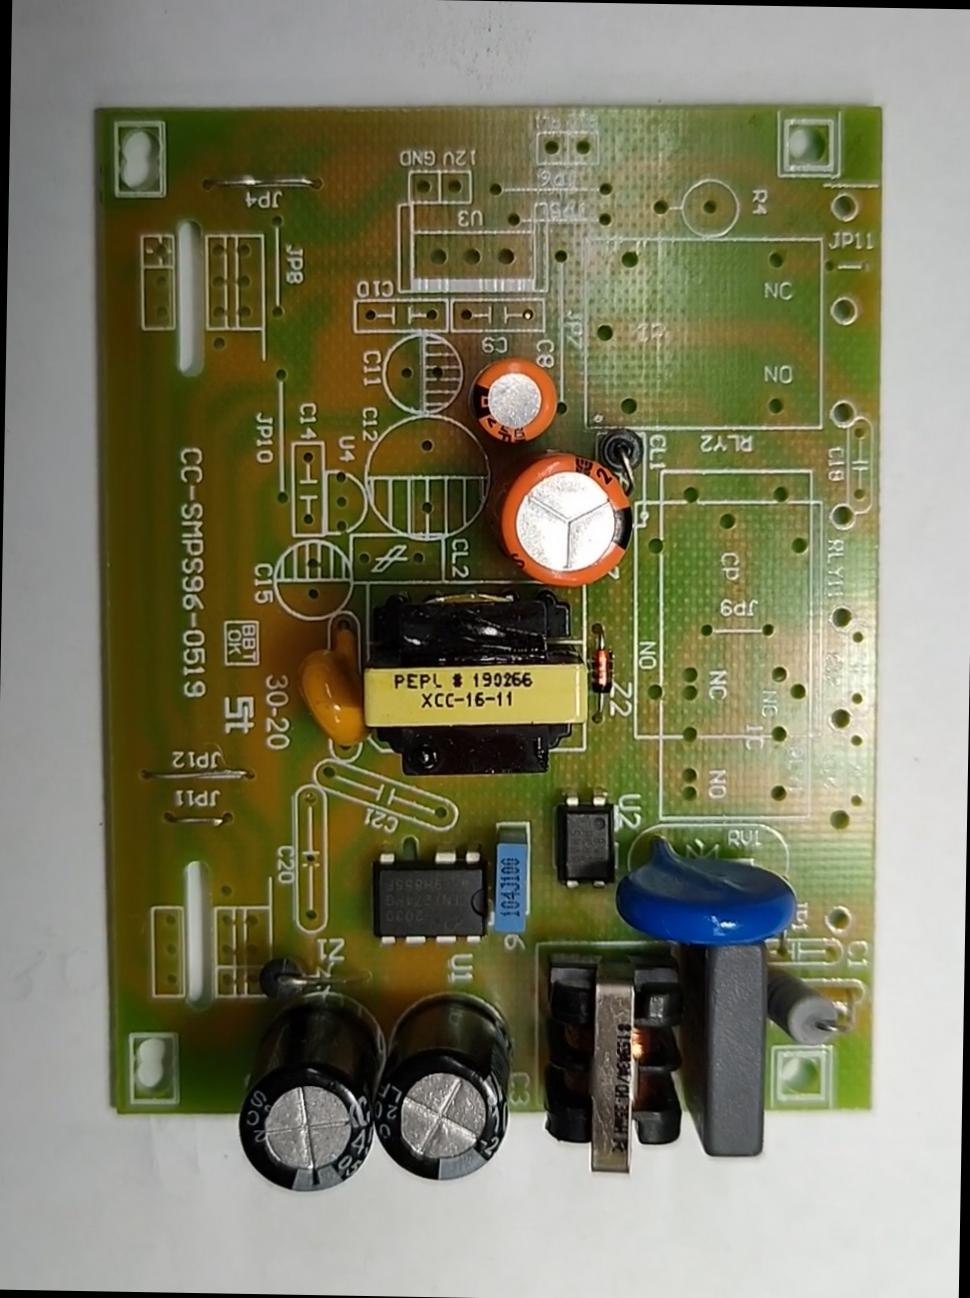Cap1: (496, 439, 638, 590)
Cap2: (469, 356, 560, 449)
Cap3: (369, 996, 513, 1180)
Cap4: (232, 992, 377, 1194)
MOSFET: (370, 841, 490, 948)
Mov: (601, 824, 799, 950)
Resistor: (762, 963, 852, 1049)
Transformer: (359, 593, 594, 788), (543, 951, 679, 1174)
